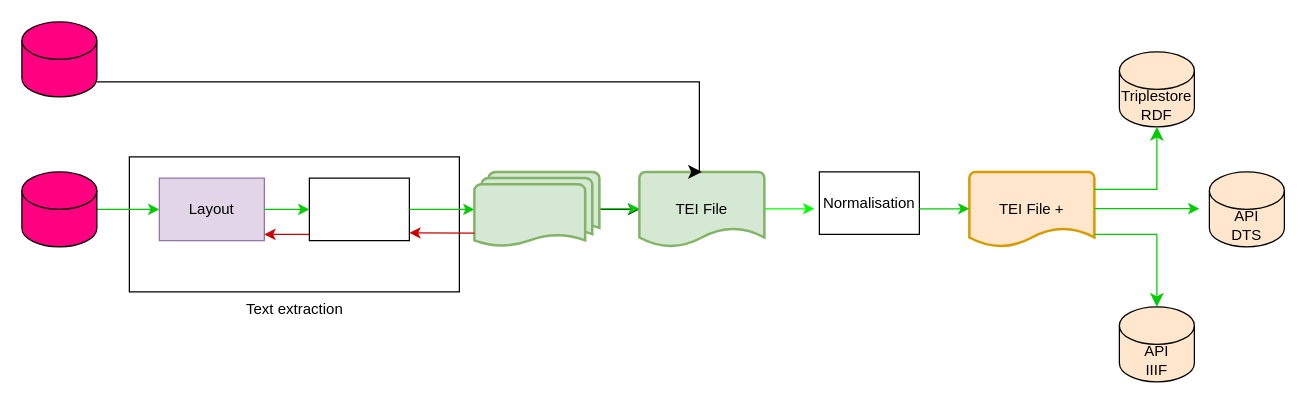
This 1306x404 diagram has some shape labels left out. Here are the shapes that lost their labels. From the top down, the centre of each, then its label:
the point at 59,59: Metadata
the point at 59,209: Digital Facsimile
the point at 358,209: Text
the point at 536,209: Alto Files
